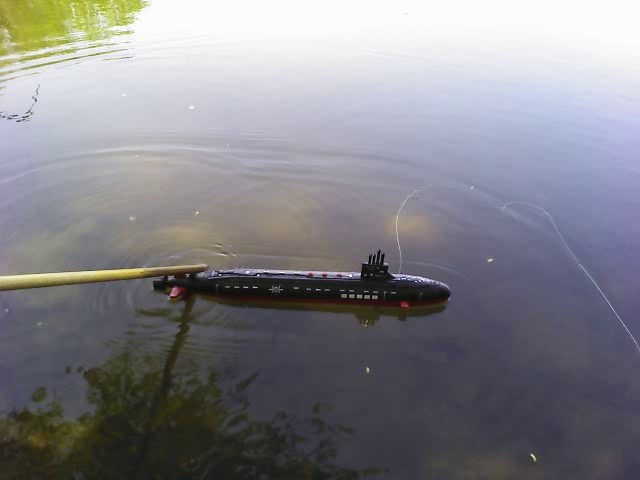submarine: (153, 247, 453, 321)
